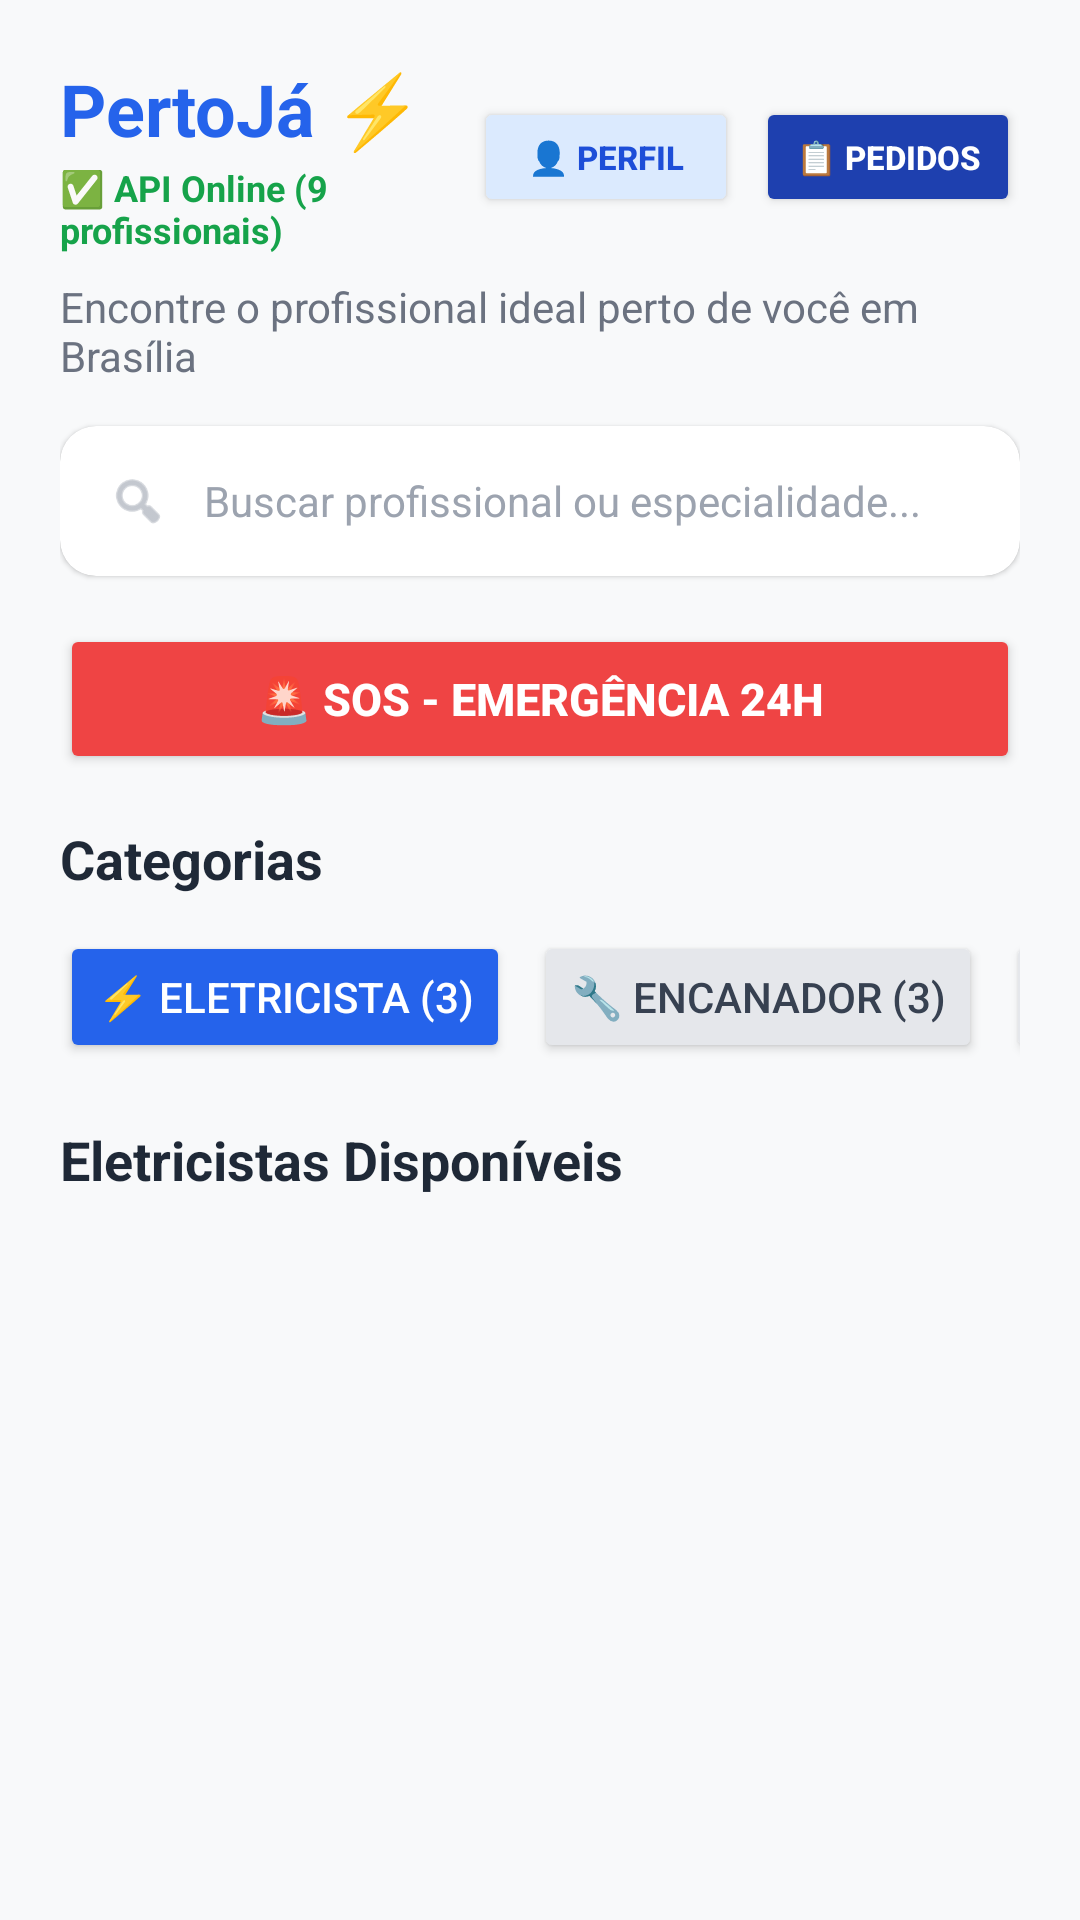

Screen size 1080px x 1920px. Icon name, then its box in pixels as BBox(x1, y1, x2, y2):
search: BBox(116, 479, 160, 523)
